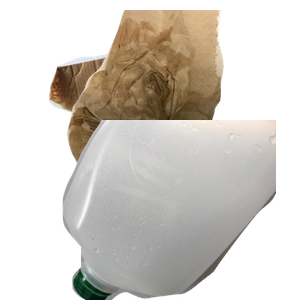cardboard: (46, 40, 226, 179)
glass: (115, 120, 300, 300)
plastic: (60, 120, 300, 300)
trash: (65, 10, 300, 190)
